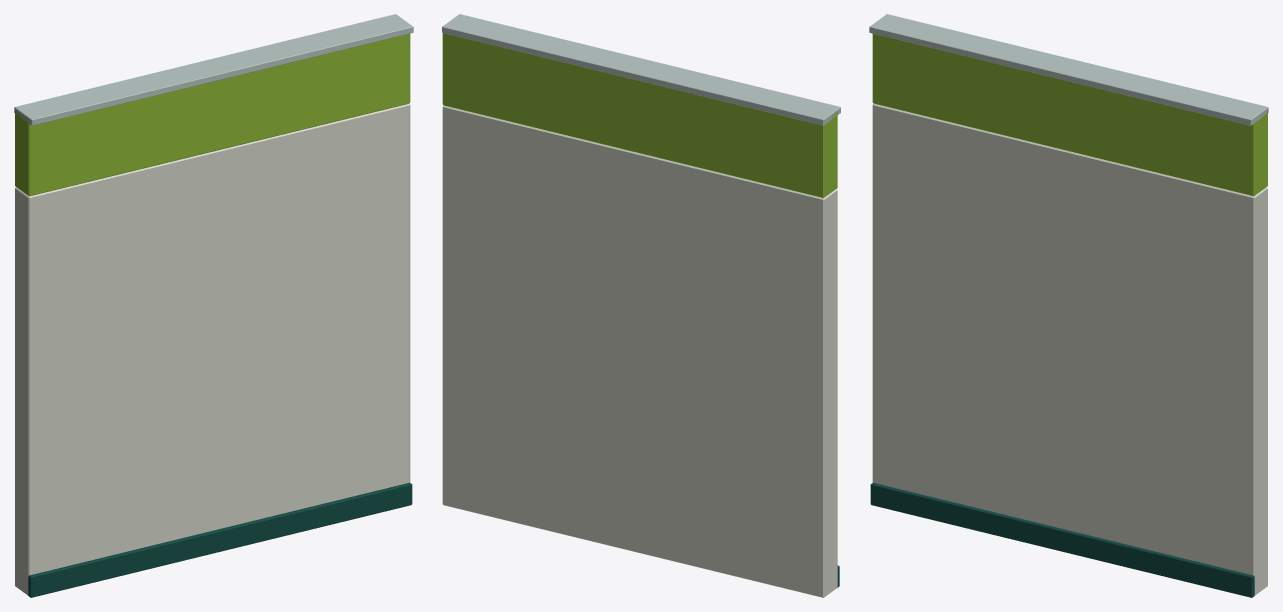
Rendered from wall_class.glb.
3 views of the same model, side by side, from view 1: azimuth 30°, elevation 25°; view 2: azimuth 150°, elevation 25°; view 3: azimuth 330°, elevation 25° (orthographic).
Parts seen in each view (by area): view 1: Painel marfim, Faixa verde, Arremate superior, Rodapé; view 2: Painel marfim, Faixa verde, Arremate superior; view 3: Painel marfim, Faixa verde, Arremate superior, Rodapé.
Boxes of the visible parts, bbox=[...] form: Painel marfim: bbox=[15, 104, 410, 595]; Faixa verde: bbox=[15, 33, 410, 196]; Arremate superior: bbox=[14, 14, 413, 125]; Rodapé: bbox=[28, 482, 412, 597]; Painel marfim: bbox=[442, 105, 837, 597]; Faixa verde: bbox=[442, 33, 837, 197]; Arremate superior: bbox=[442, 14, 840, 125]; Painel marfim: bbox=[872, 104, 1267, 595]; Faixa verde: bbox=[872, 33, 1267, 196]; Arremate superior: bbox=[869, 14, 1268, 125]; Rodapé: bbox=[870, 482, 1254, 597].
Bounding box in the file's own units: 2.5 × 3 × 0.2.
